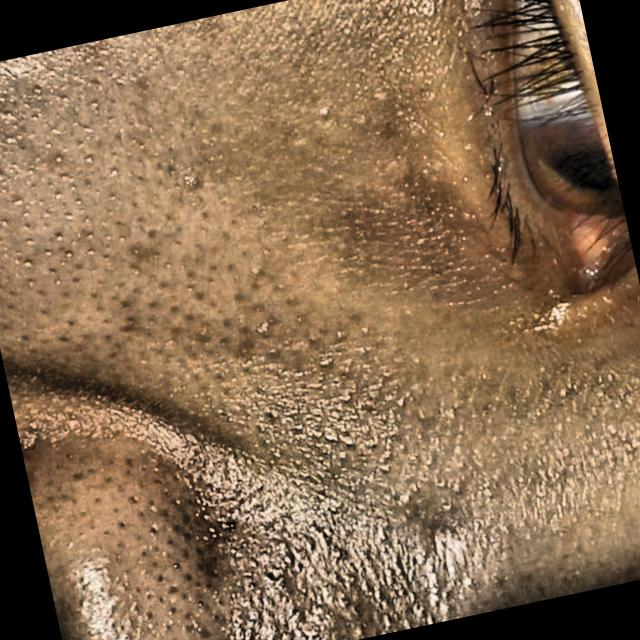whiteheads: (247, 316, 275, 342), (177, 169, 203, 196), (310, 100, 334, 123), (241, 260, 264, 280), (322, 497, 343, 514), (432, 128, 450, 143)
